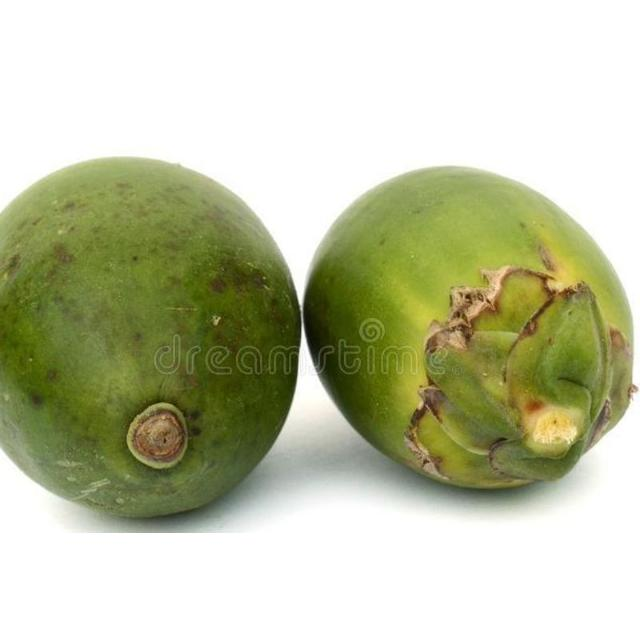good: (0, 157, 302, 521), (302, 165, 636, 492)
